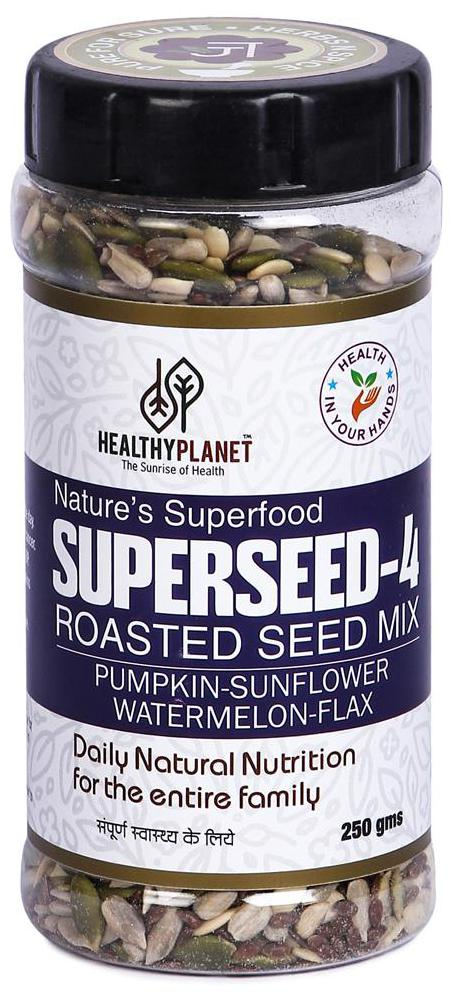JAR: (2, 8, 447, 985)
